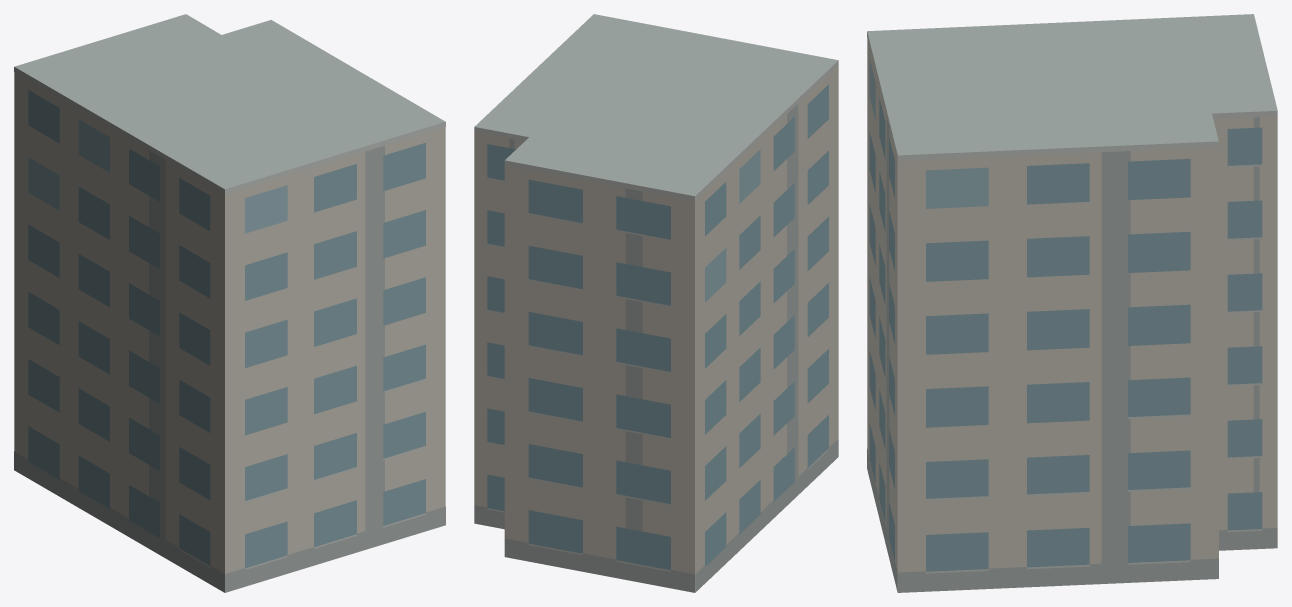
Rendered from survey-upis-33042674.glb.
The picture shows the model from 3 angles, left to right: view 1: azimuth 30°, elevation 25°; view 2: azimuth 150°, elevation 25°; view 3: azimuth 270°, elevation 25°; orthographic projection. The views are drawn at different scales.
Parts seen in each view (by area): view 1: survey-upis-33042674.tmp; view 2: survey-upis-33042674.tmp; view 3: survey-upis-33042674.tmp.
Part boxes in pixels (x1=…): survey-upis-33042674.tmp: x1=14, y1=14, x2=445, y2=592; survey-upis-33042674.tmp: x1=474, y1=14, x2=838, y2=592; survey-upis-33042674.tmp: x1=867, y1=14, x2=1277, y2=592.
Bounding box in the file's own units: 13.11 × 18.9 × 16.09.
